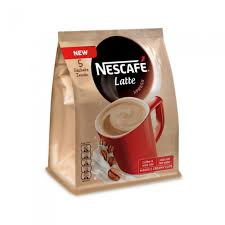nescafe-classic/gold-med: (45, 27, 178, 198)
